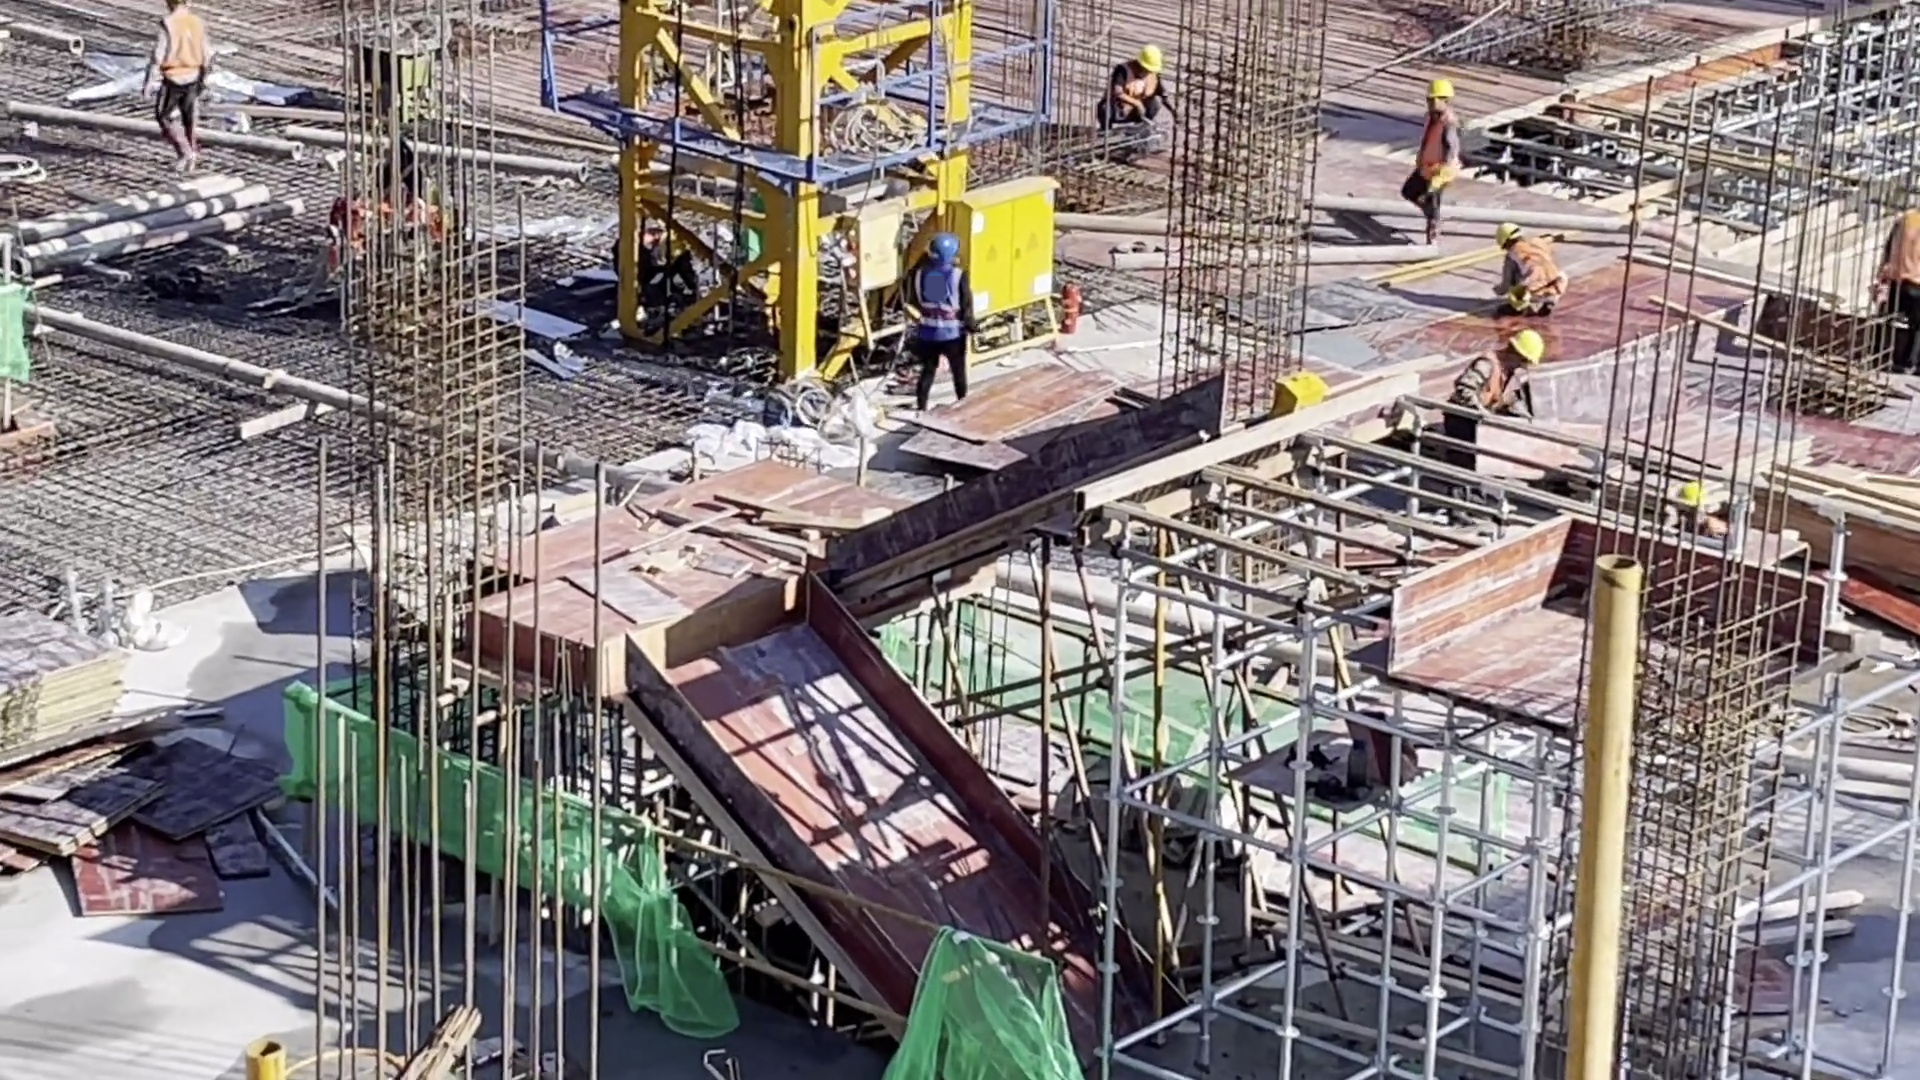board: (1, 745, 292, 933), (1, 610, 128, 760)
ebox: (956, 172, 1069, 365), (843, 195, 908, 352), (1271, 365, 1335, 413)
helmet: (919, 233, 967, 262), (1508, 329, 1546, 365), (1133, 38, 1166, 77), (1679, 485, 1714, 516), (1491, 222, 1524, 252), (1421, 74, 1451, 102)
person: (133, 1, 215, 172), (899, 231, 976, 411), (1398, 80, 1472, 252), (1436, 329, 1550, 437), (1876, 185, 1920, 389), (1095, 40, 1179, 131), (1492, 224, 1570, 321)
vest: (907, 270, 971, 360), (1454, 357, 1526, 427), (1409, 114, 1467, 196), (1878, 210, 1920, 302), (161, 13, 207, 90), (1106, 70, 1163, 118), (1508, 244, 1558, 297)
wood: (1778, 453, 1920, 583)
